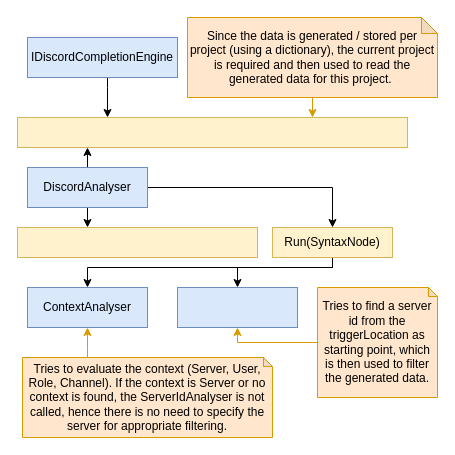
Some shapes in this 455 by 455 pixel diagram are drawn without their labels. The shapes that lost their labels are listed below. From the top down, each one's box as (x1, y1, x2, y2) in pixels, then its label:
(16, 116, 408, 148): ProcessCompletionsAsync(Solution, SemanticModel, SyntaxToken)
(16, 226, 258, 258): Initialize(Solution, Project, SemanticModel)
(176, 286, 298, 328): ServerIdAnalyser
